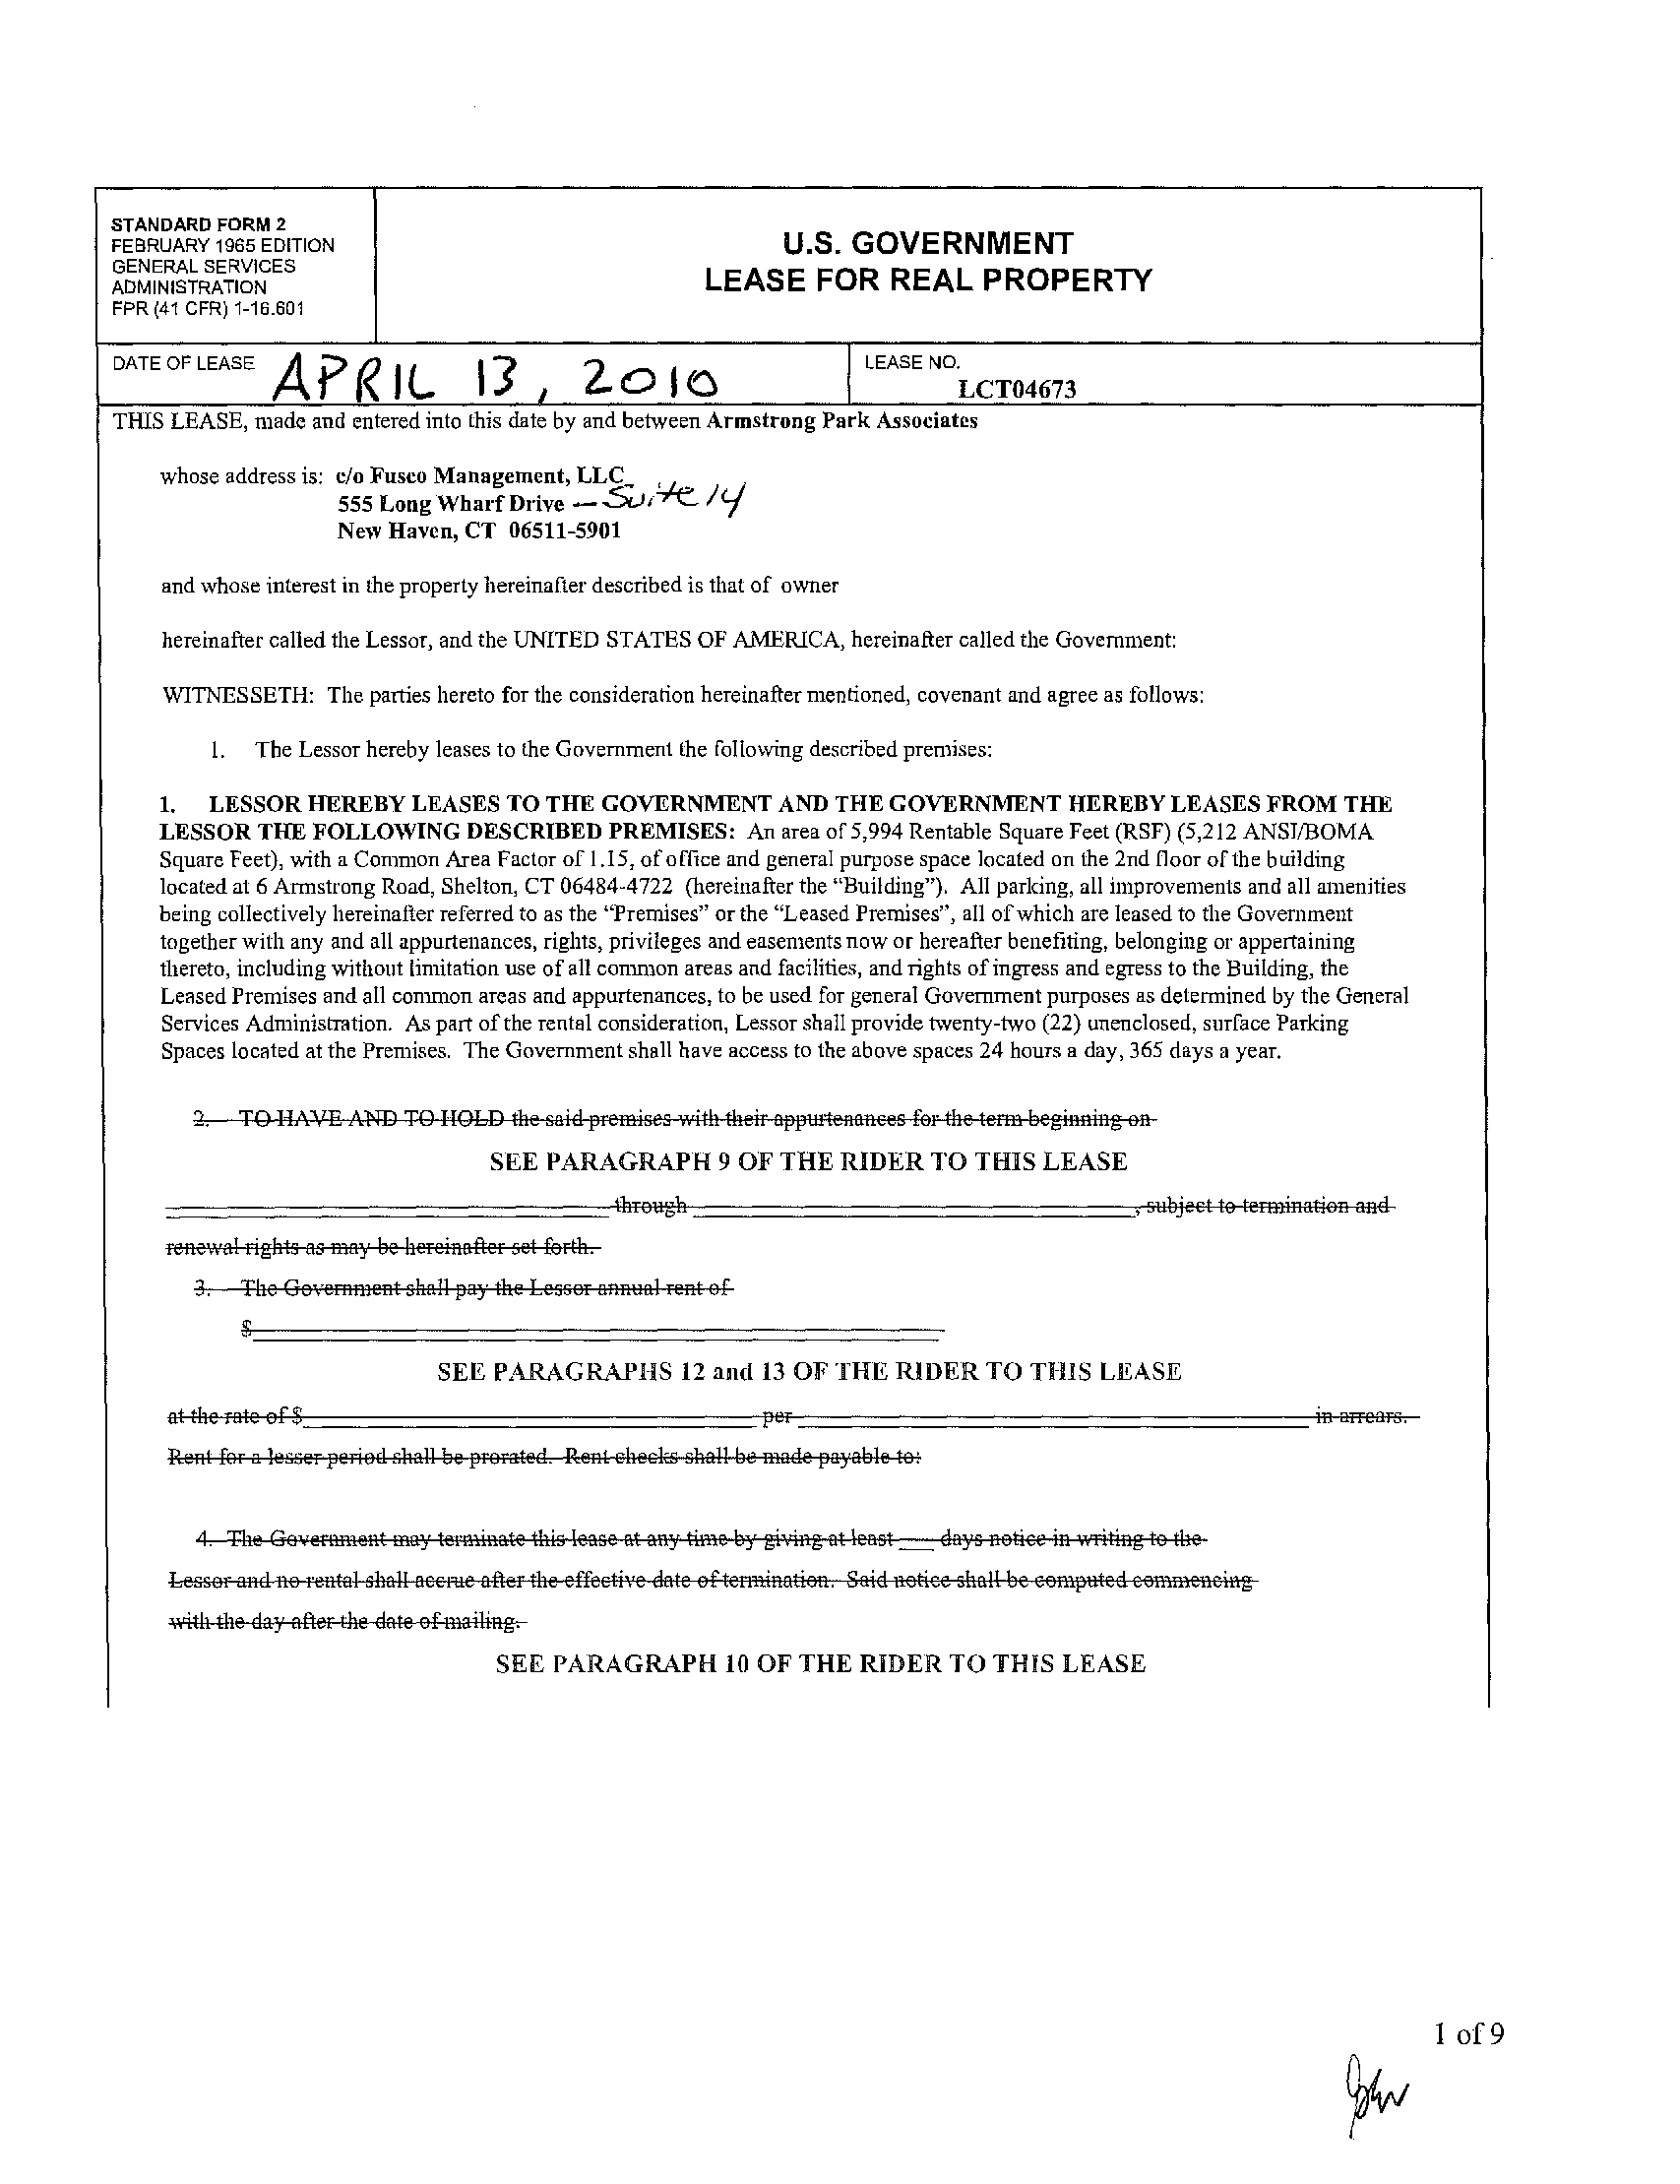handwritten: (261, 342, 732, 400), (1301, 2034, 1433, 2147)
